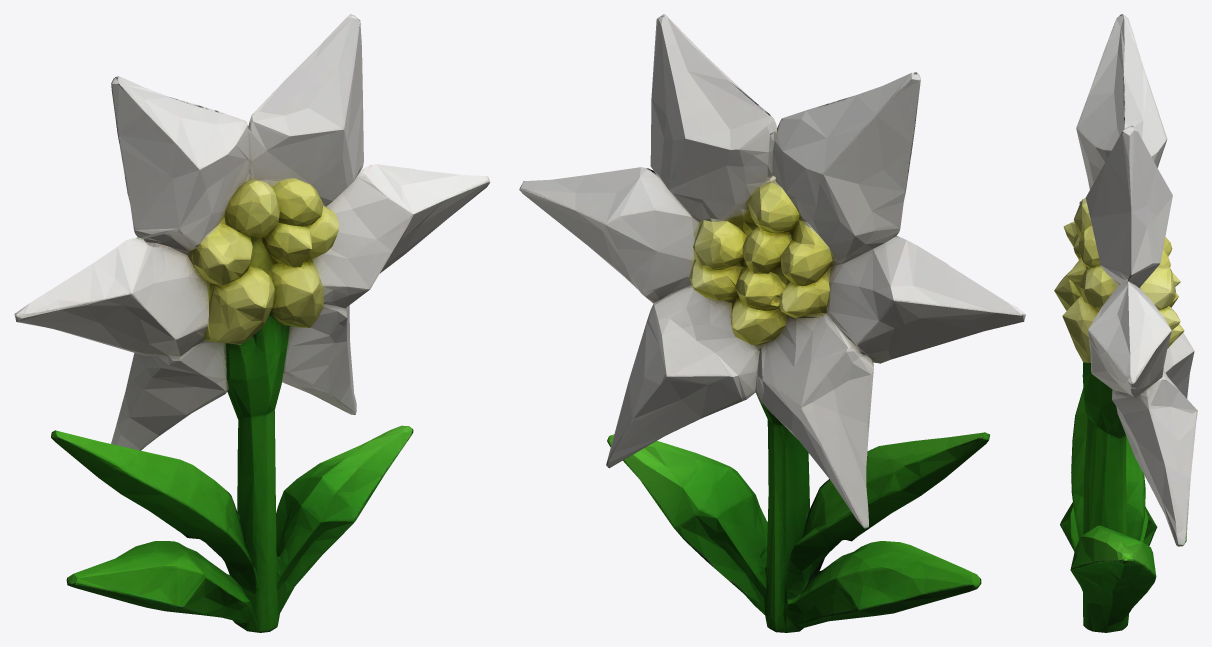
The model's file is edelweiss.glb.
3 views of the same model, side by side, from view 1: azimuth 30°, elevation 25°; view 2: azimuth 150°, elevation 25°; view 3: azimuth 270°, elevation 25° (orthographic). The views are drawn at different scales.
Visible parts, largest first — view 1: world; view 2: world; view 3: world.
Boxes of the visible parts, x1,y1,x2,y2 form: world: [14, 14, 490, 632]; world: [519, 14, 1025, 632]; world: [1054, 14, 1197, 632].
Size of the model in its own units: 0.8815 by 1 by 0.2372.
Materials: 1 (1 with a texture image).
